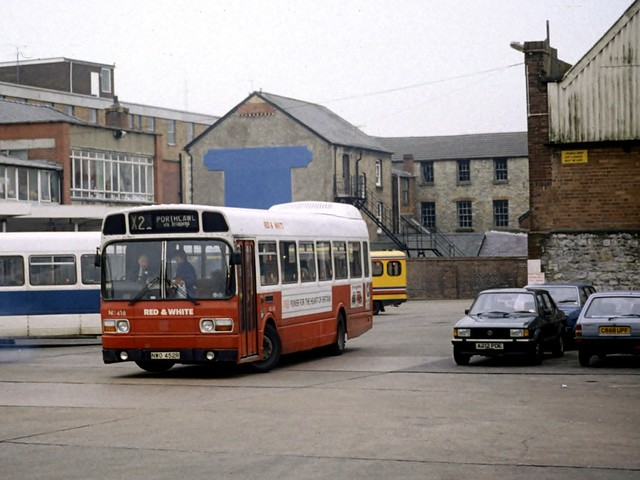bus: (101, 201, 373, 373), (1, 231, 101, 339), (373, 250, 407, 316)
car: (451, 288, 567, 367), (574, 292, 640, 366), (523, 284, 597, 343)
